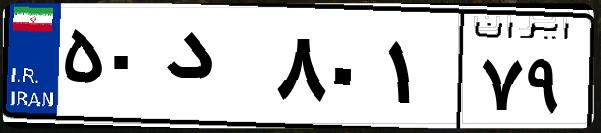0: (330, 28, 385, 110), (110, 28, 158, 98)
1: (385, 28, 445, 110)
5: (57, 26, 110, 100)
7: (475, 38, 525, 113)
8: (270, 28, 330, 110)
9: (525, 38, 570, 115)
د: (158, 20, 270, 120)
